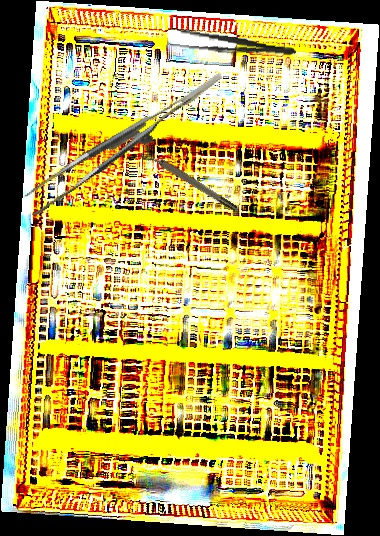Dressing Forceps: (168, 27, 297, 62)
Fixation Ring: (139, 145, 239, 217)
Tissue Forceps: (12, 72, 241, 217)
